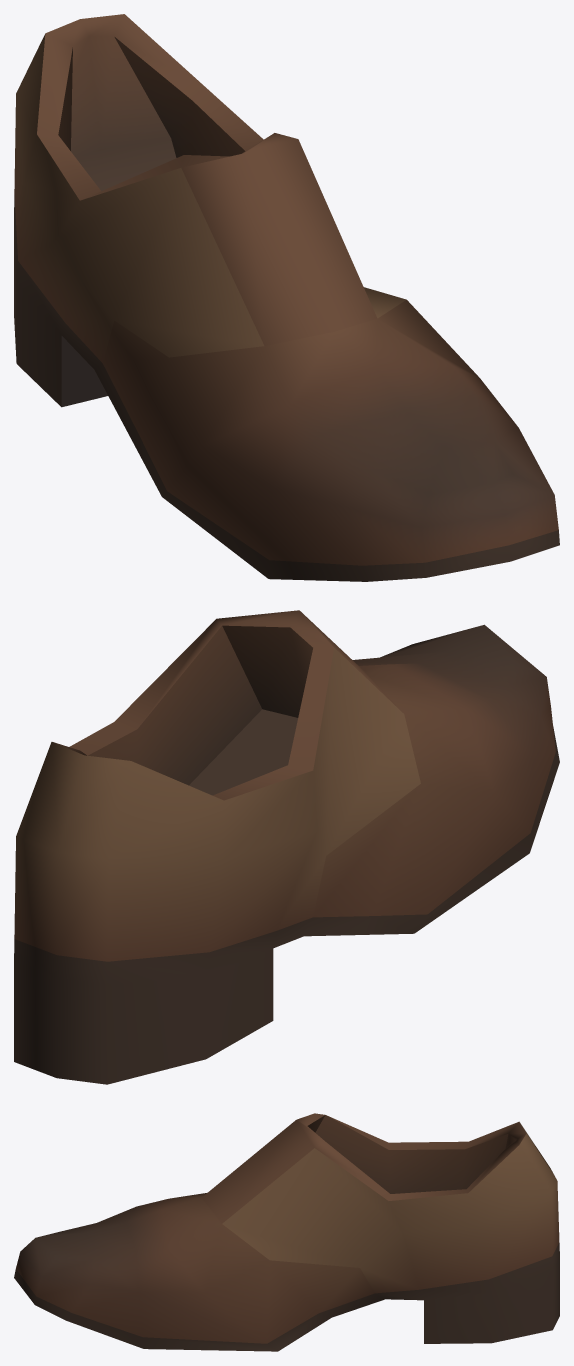
The model's file is human-clothing-dress-shoe_v1.glb.
3 views of the same model, one above another, from view 1: azimuth 30°, elevation 25°; view 2: azimuth 150°, elevation 25°; view 3: azimuth 270°, elevation 25° (orthographic). The views are drawn at different scales.
Parts seen in each view (by area): view 1: Dress Shoe_v1; view 2: Dress Shoe_v1; view 3: Dress Shoe_v1.
Boxes of the visible parts, <box> form: Dress Shoe_v1: <box>14,14,559,581</box>; Dress Shoe_v1: <box>14,610,559,1084</box>; Dress Shoe_v1: <box>14,1113,559,1351</box>.
Bounding box in the file's own units: 0.103 × 0.1109 × 0.29.
